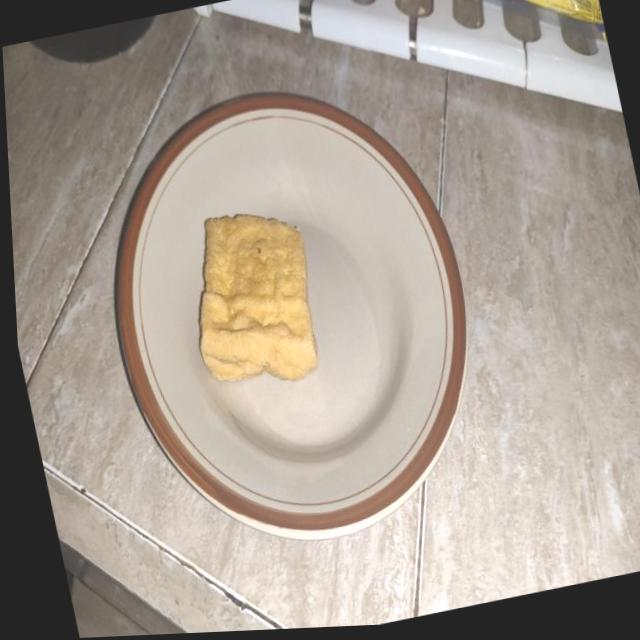tahu_goreng: (200, 214, 318, 380)
